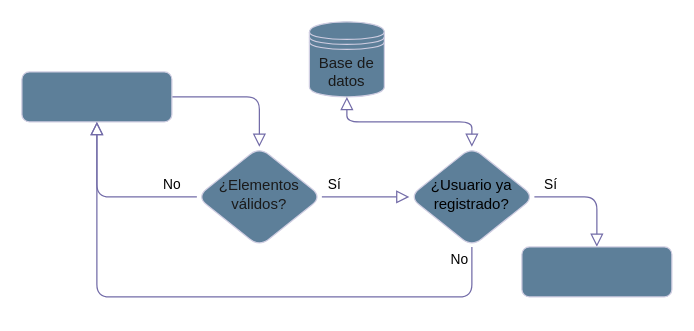
The diagram is 694 pixels wide and 331 high, and some of its shapes have lost their labels. The centre of each missing label's shape, as x and y in pixels:
El Usuario rellena el formulario: (x=96, y=96)
Se carga una instancia del mismo: (x=596, y=271)
